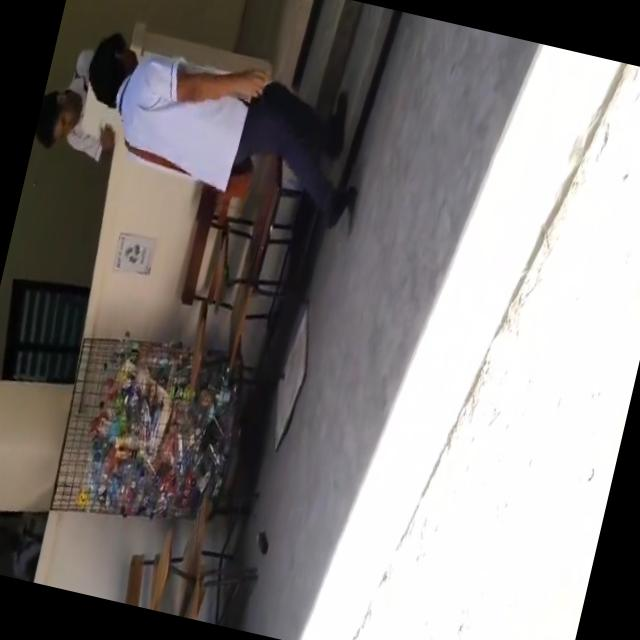Bottle: (256, 531, 268, 554)
